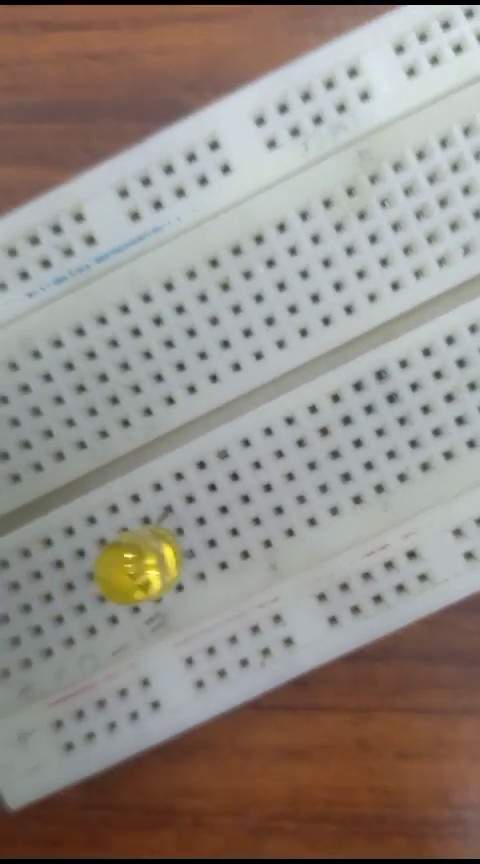LED: (95, 515, 199, 619)
